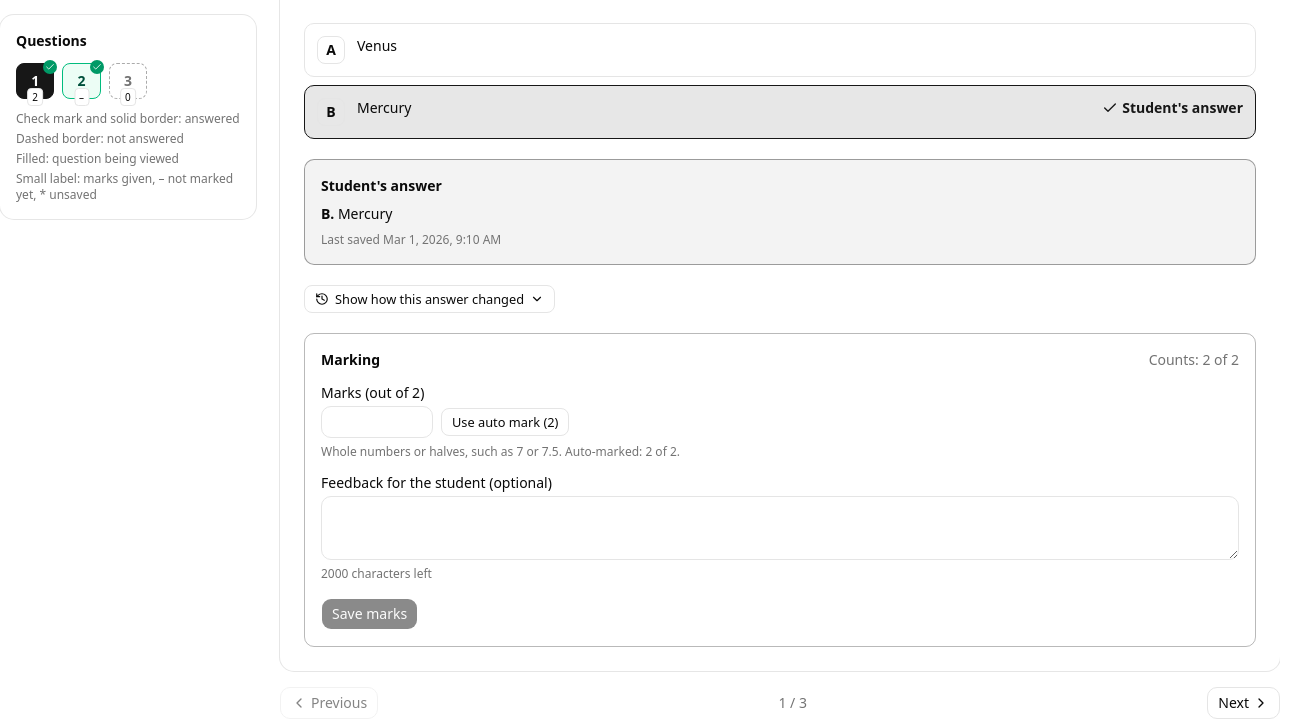
Test: marking in the response review › shows an auto-marked question with its mark and an option to use it
This screenshot has width=1292, height=719.
(page scrolled)
Expected: the text with test id "current-mark" reads "Counts: 2 of 2", [1149,350,1239,370]
Expected: the field labelled "Marks (out of 2)" is empty, [321,406,433,438]
Click the button "Use auto mark (2)".
click(505, 422)  # box [441,408,569,436]
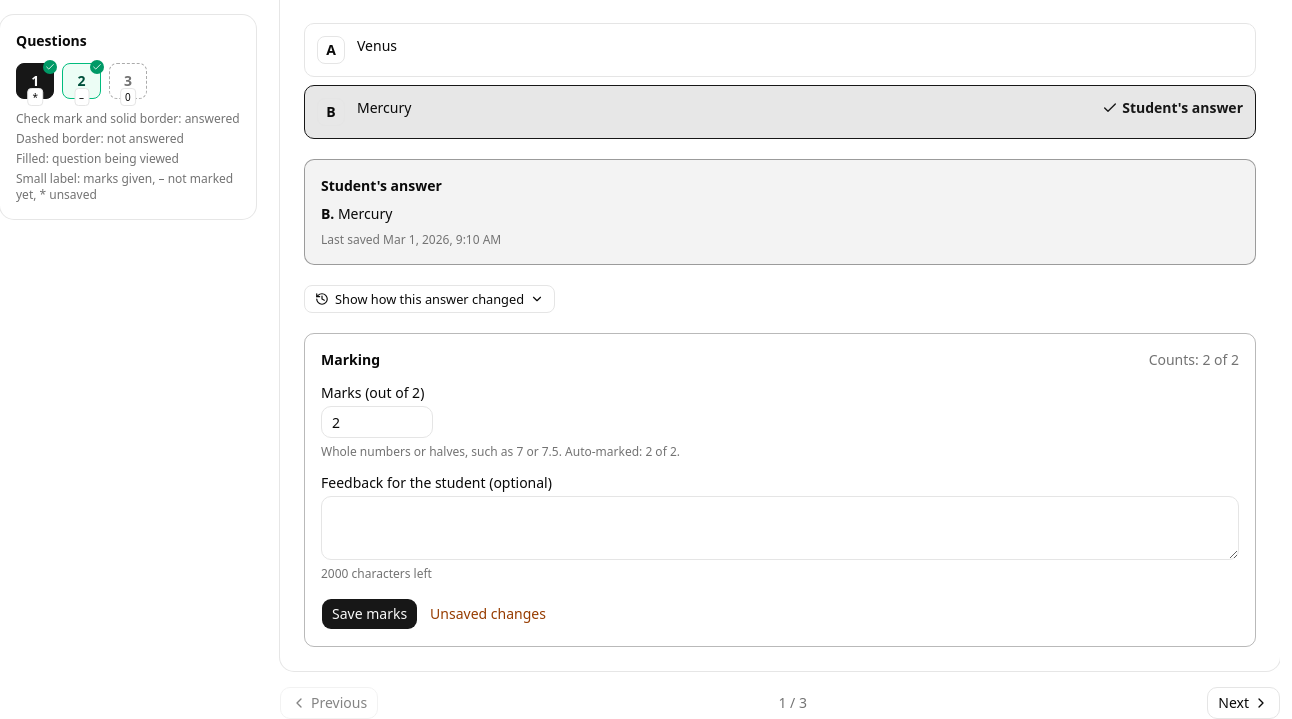
Result: the field labelled "Marks (out of 2)" holds "2" at [321,406,433,438]
Result: the text "Unsaved changes" is shown at [430,604,546,624]
